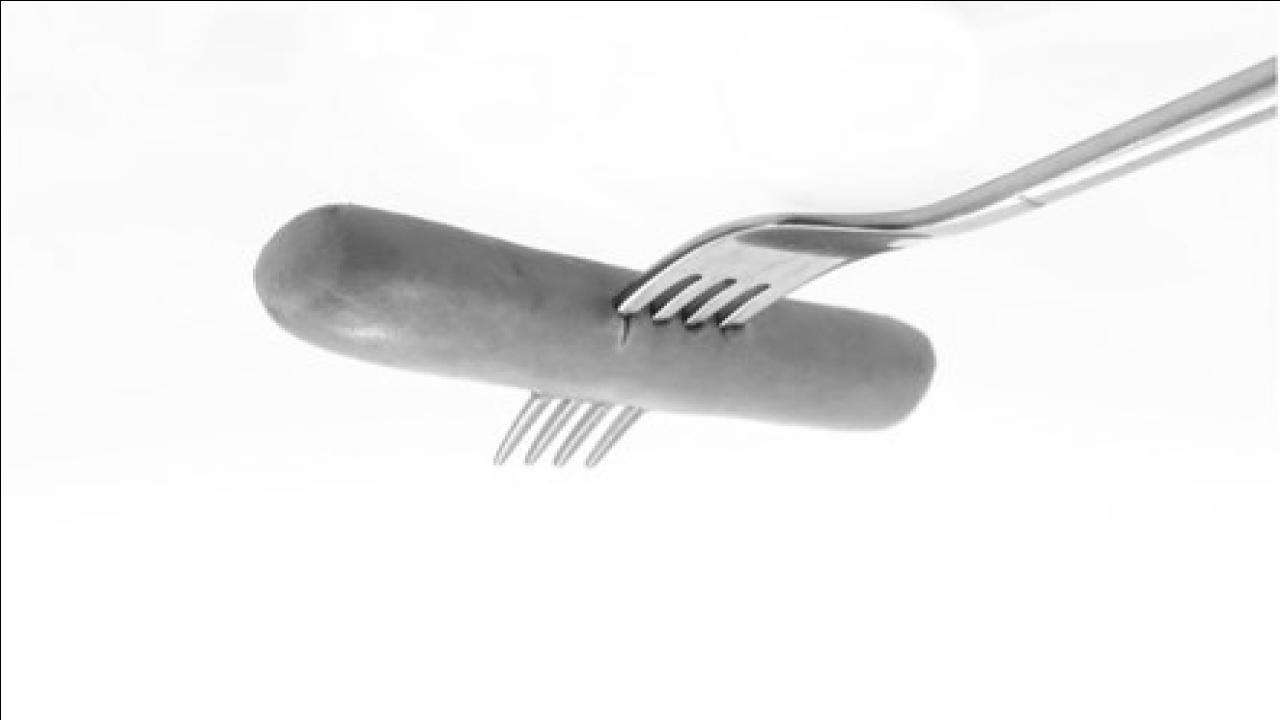fork: (492, 54, 1280, 472)
